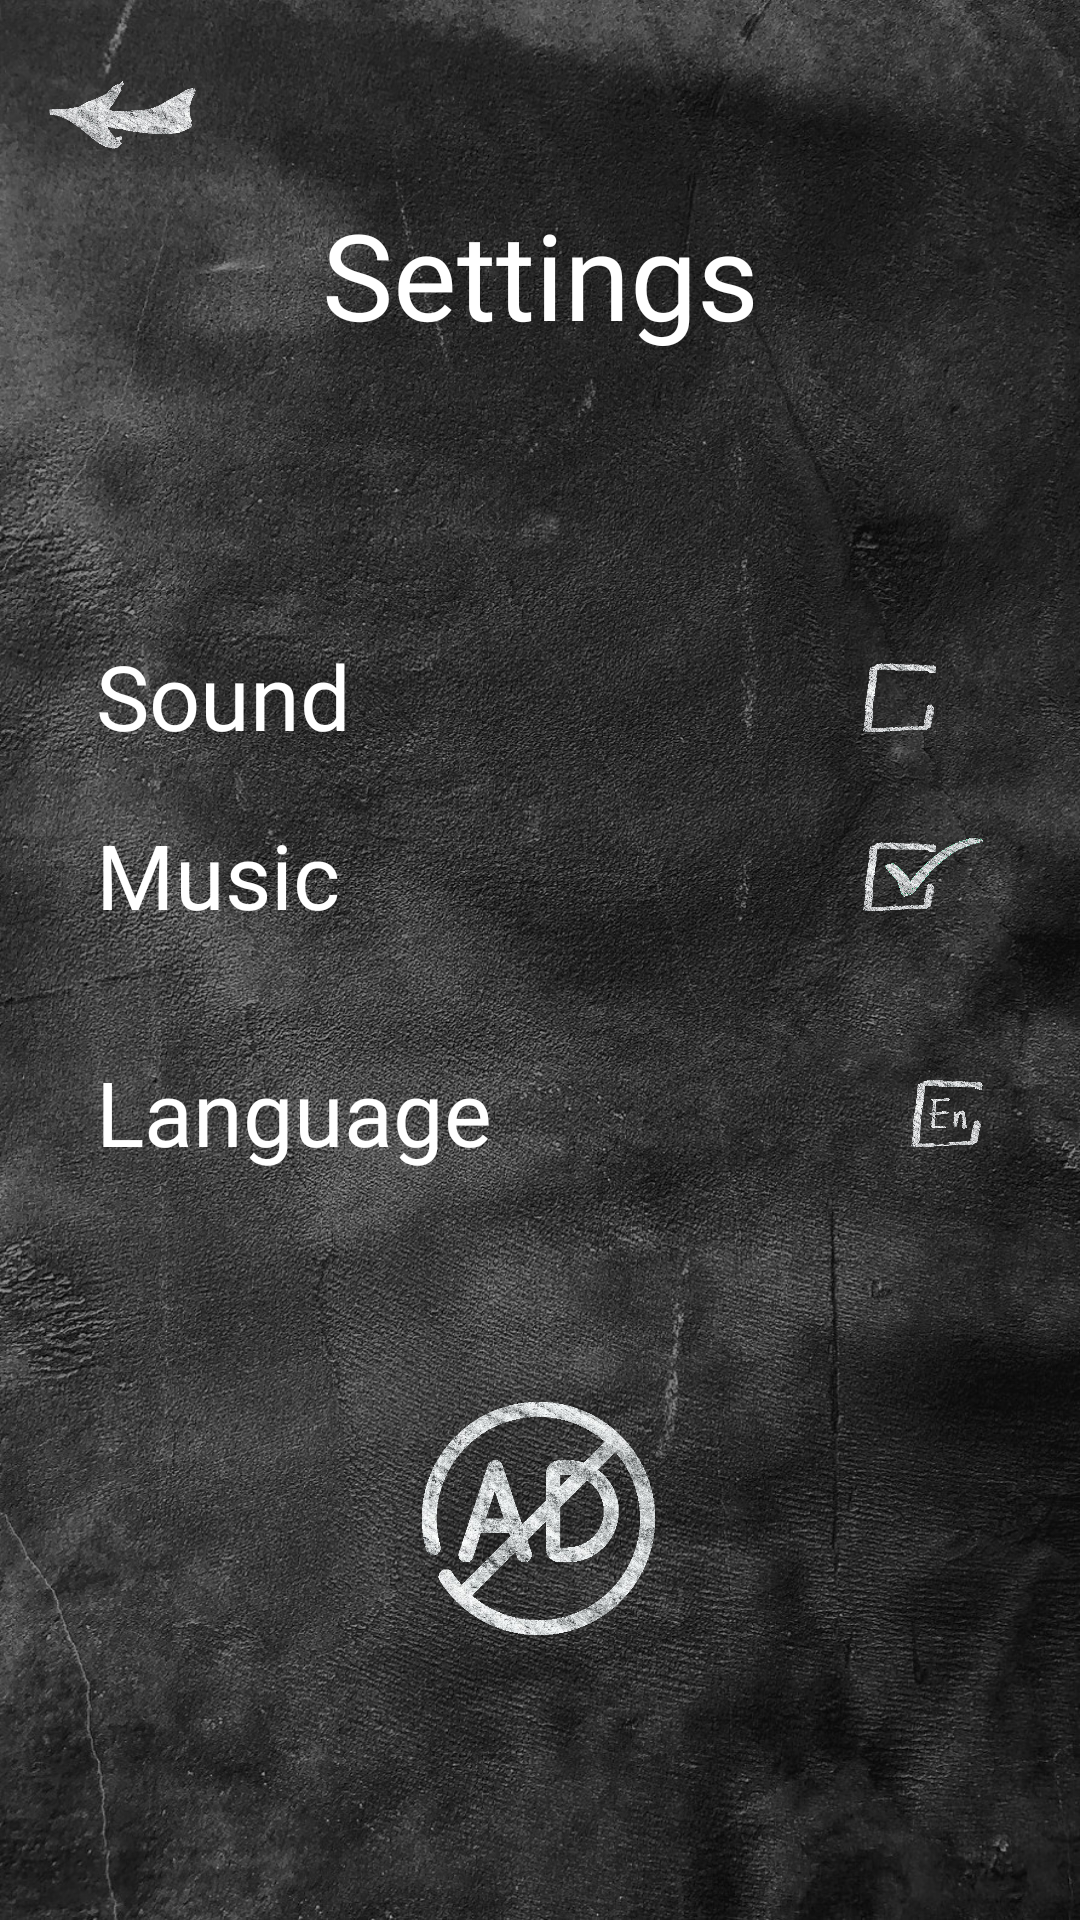

Screen size 1080 x 1920. Icon name, then its box in pixels as box=[x1, y1, x2, y2]:
back: box=[48, 53, 198, 198]
checked: box=[863, 814, 984, 935]
english txt: box=[911, 1075, 984, 1148]
no ads: box=[422, 1402, 655, 1635]
unchecked: box=[863, 635, 984, 756]
